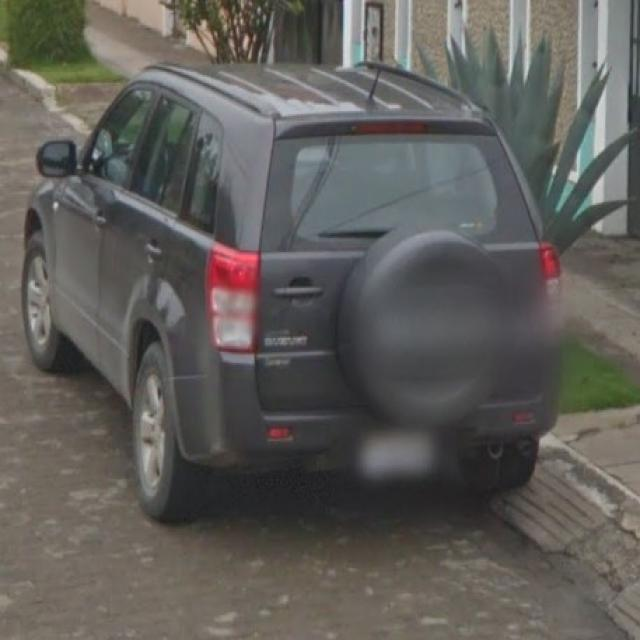car: (28, 53, 569, 519)
